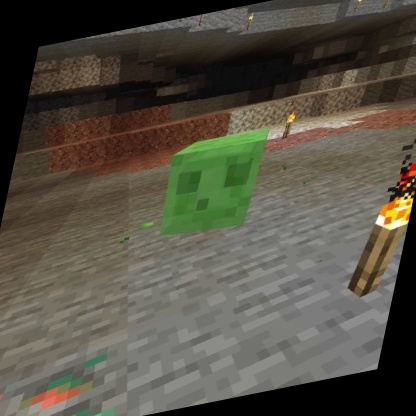slime: (151, 122, 275, 247)
